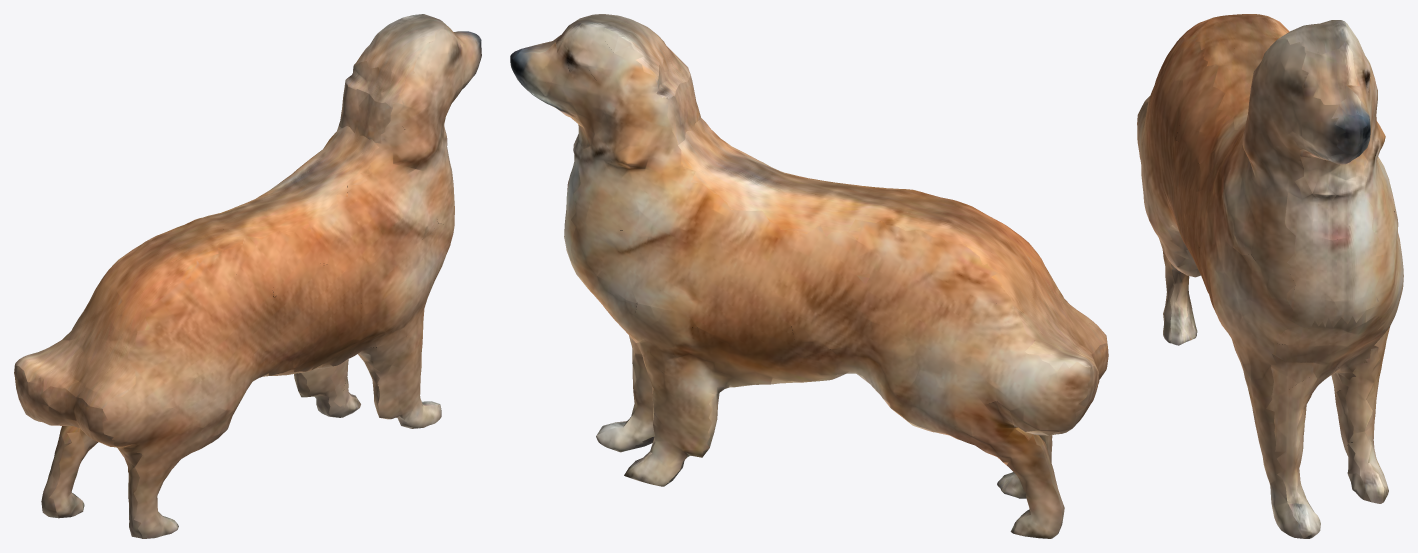
The model's file is dog_00002.glb.
3 renders of one model, left to right at view 1: azimuth 30°, elevation 25°; view 2: azimuth 150°, elevation 25°; view 3: azimuth 270°, elevation 25°, orthographic. The views are drawn at different scales.
Visible parts, largest first — view 1: world; view 2: world; view 3: world.
Part boxes in pixels (left/top/right/bottom): world: left=14, top=14, right=481, bottom=538; world: left=510, top=14, right=1108, bottom=538; world: left=1137, top=14, right=1403, bottom=538.
Size of the model in its own units: 0.9422 by 0.7161 by 0.3427.
1 material, 1 textured.
